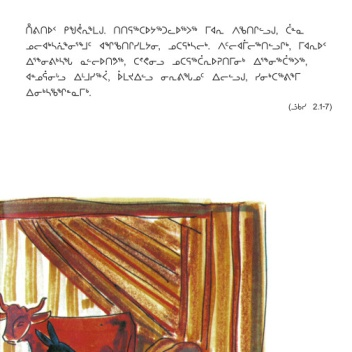inuktitut: (21, 36, 332, 54), (21, 19, 309, 35), (22, 67, 303, 83), (21, 54, 311, 67), (22, 83, 103, 98)
